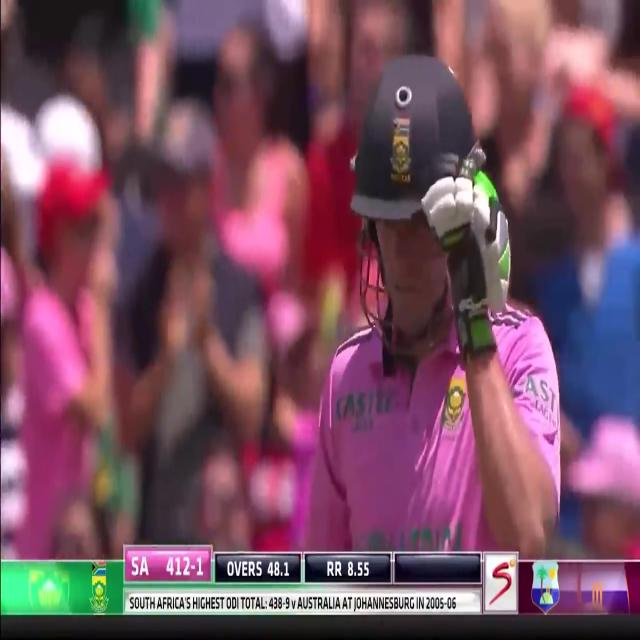Ball: (284, 53, 570, 555)
